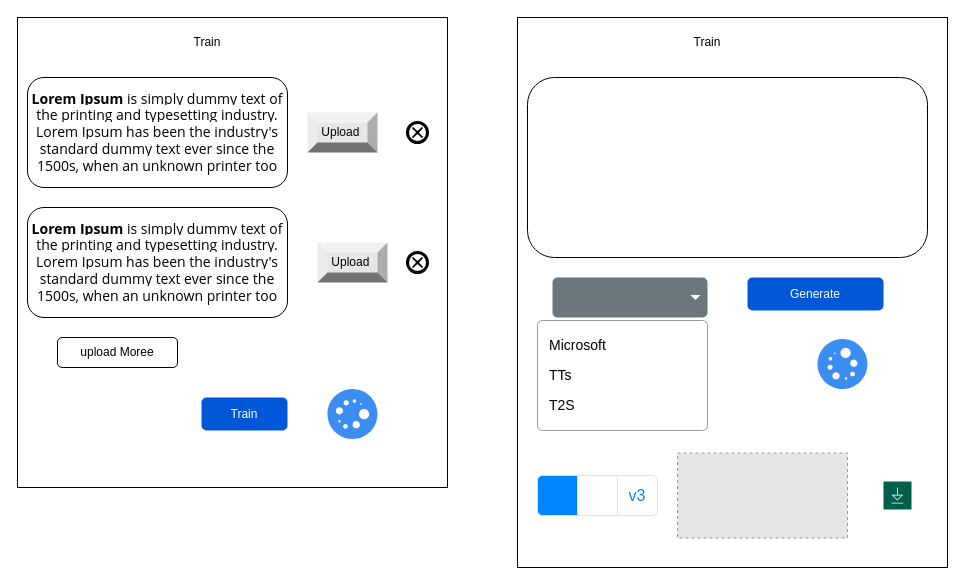
Image size: 965x585. Some labels were removed from this diagram. Grey dashed boxes stand in for pictures. Each missing label, with the centre of its shape:
Select Model: point (629, 297)
upload text: point (727, 167)
v1: point (557, 495)
v2: point (597, 495)
